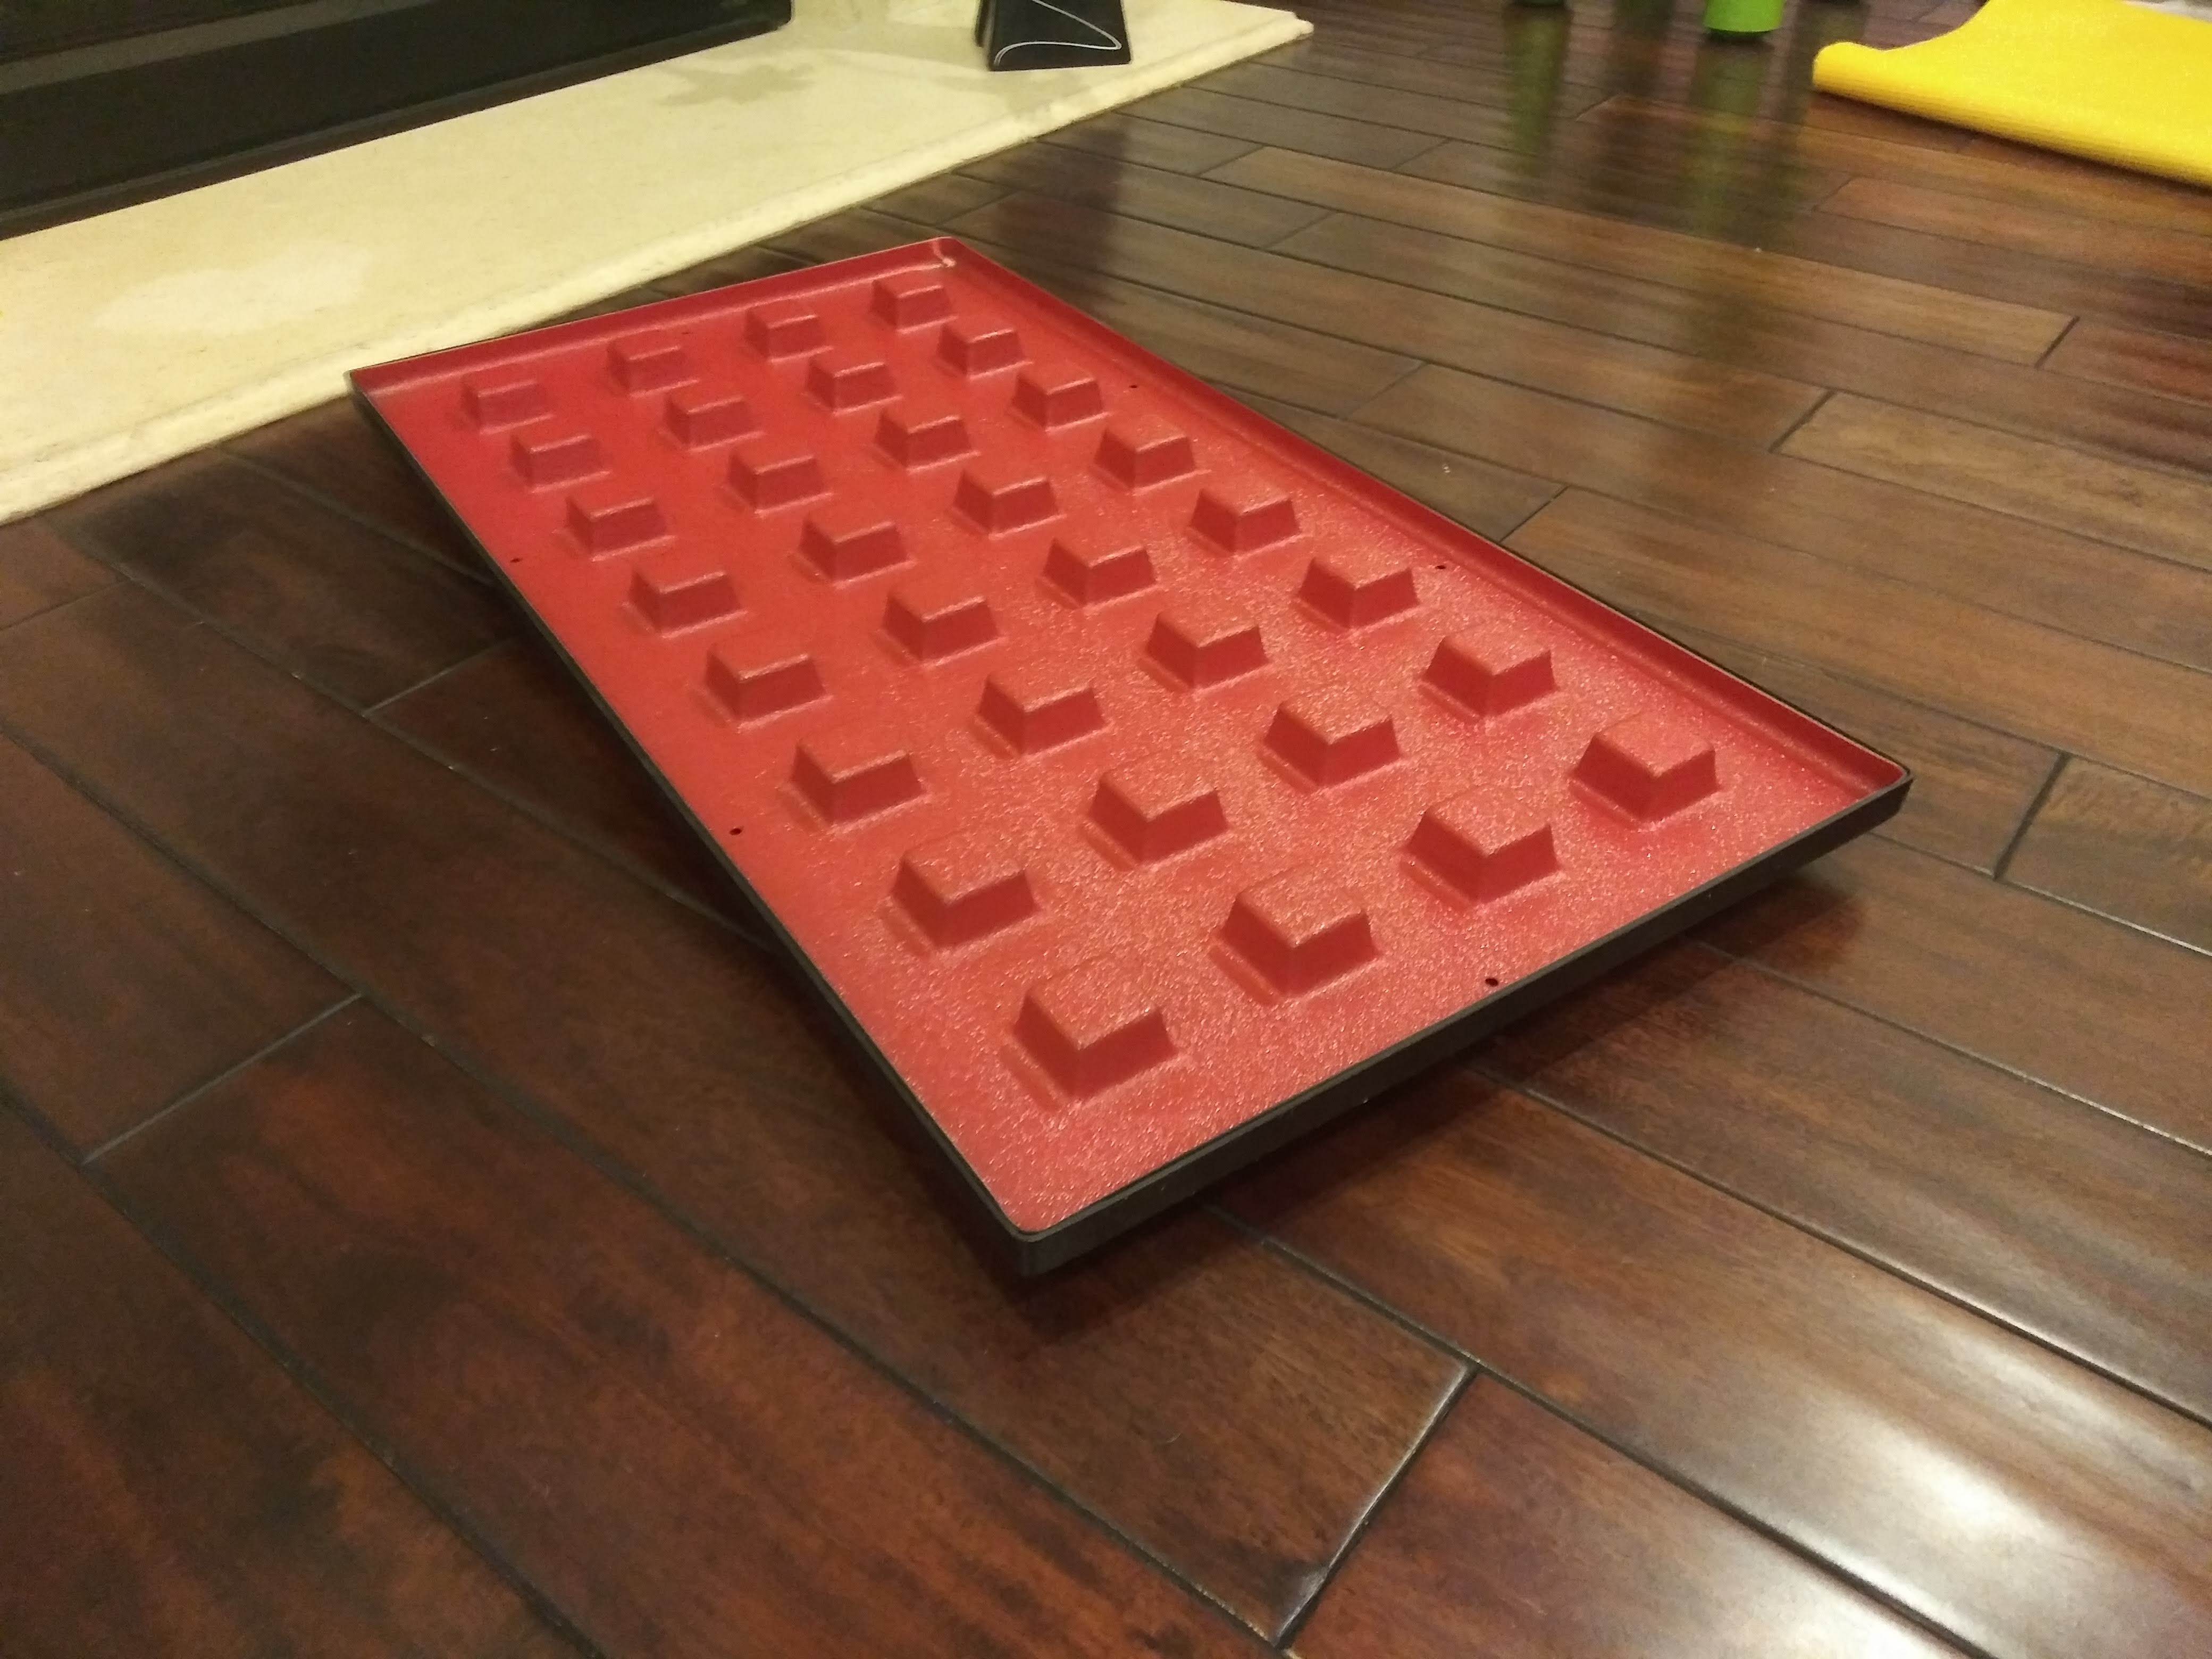red foundation: (314, 213, 1939, 1218)
